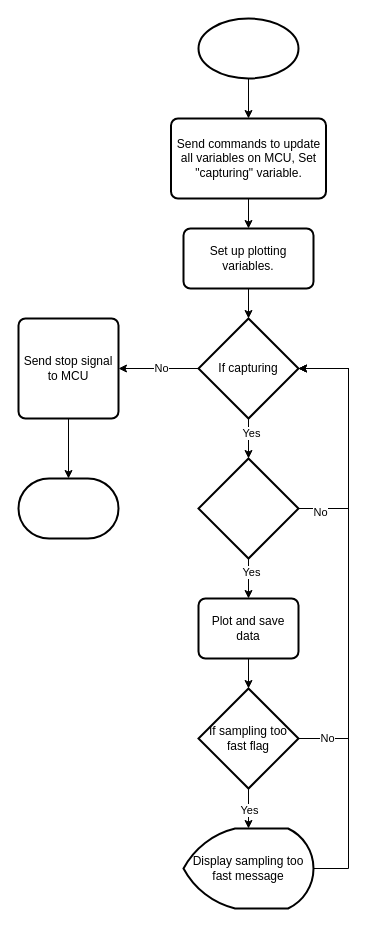
Some shapes in this 374 by 926 pixel diagram are drawn without their labels. The shapes that lost their labels are listed below. From the top down, each one's centre as x and y in pixels, then its label:
At pixel 248 48: "Start Button Pressed".
At pixel 68 508: "Wait for start button press again".
At pixel 248 508: "If recieving data".
